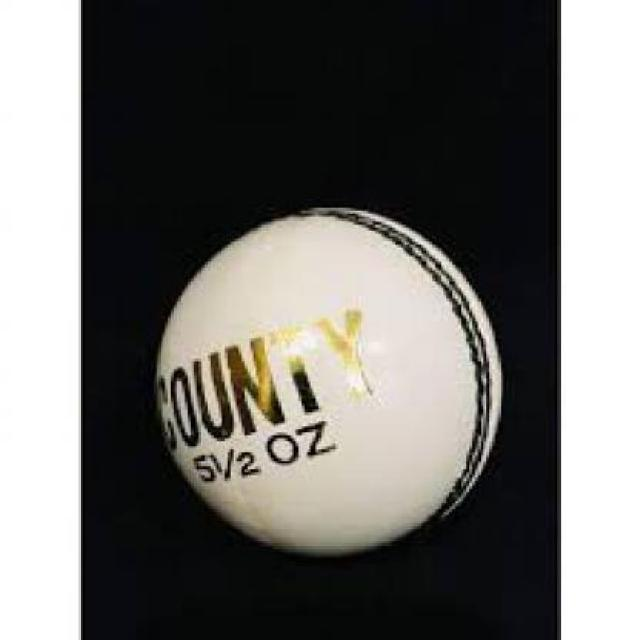-: (146, 206, 499, 535)
